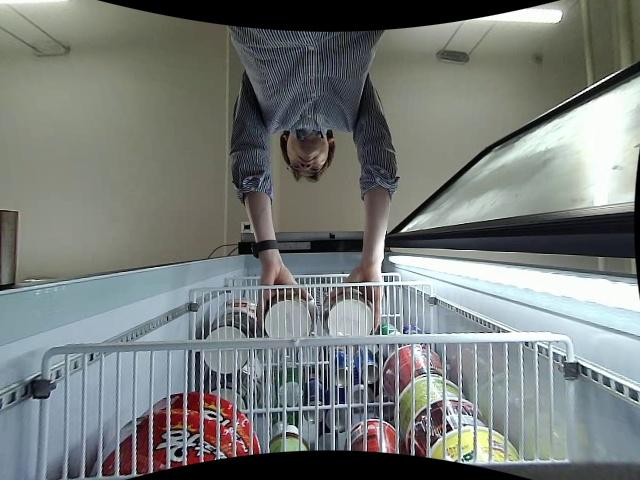00_hand: (326, 266, 386, 334), (255, 268, 311, 333)
